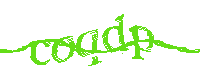c: (28, 37, 52, 68)
d: (103, 13, 128, 54)
o: (51, 33, 76, 66)
p: (129, 24, 154, 59)
q: (76, 30, 101, 67)
